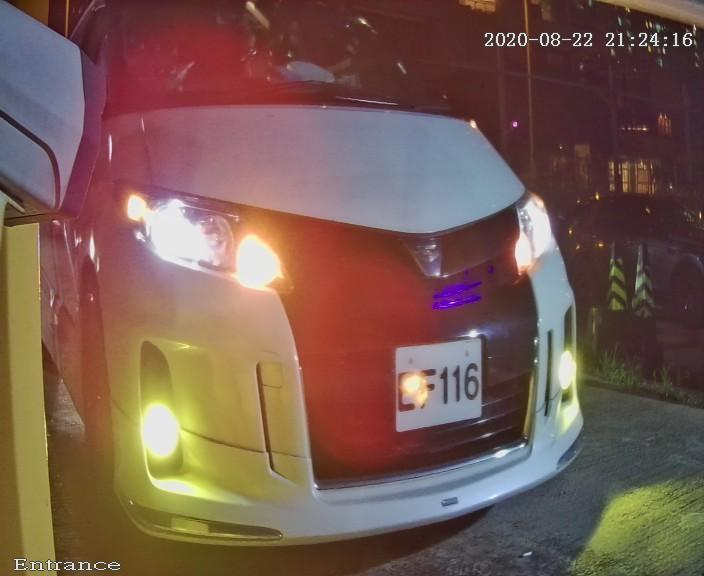Car: (19, 1, 632, 571)
License Plate: (370, 311, 507, 452)
